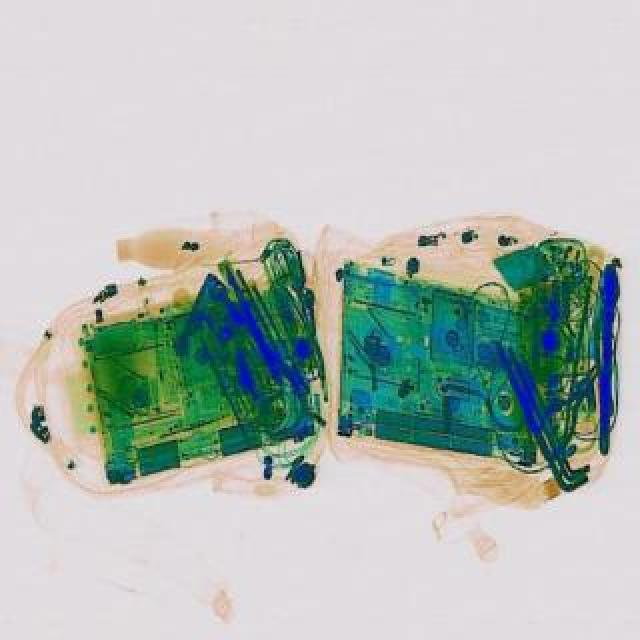scissors: (204, 276, 312, 400)
wrench: (524, 354, 616, 454)
